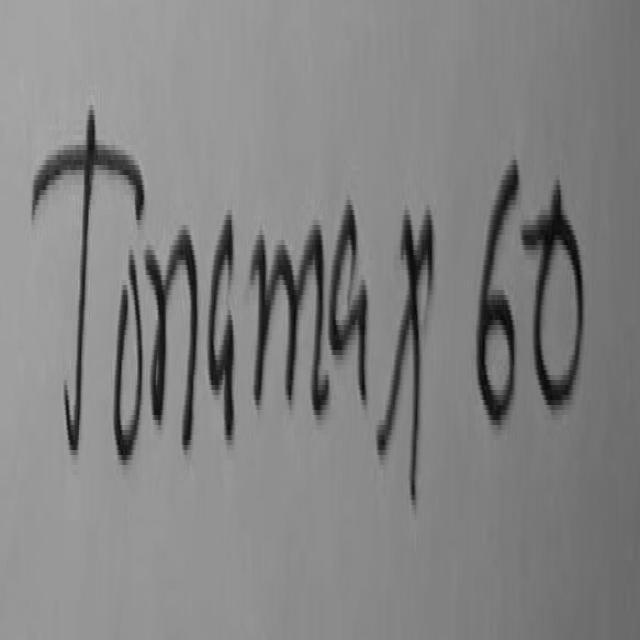0: (525, 180, 584, 402)
6: (479, 160, 518, 418)
T: (32, 105, 144, 448)
a: (329, 200, 366, 398), (209, 210, 233, 432)
m: (251, 225, 329, 408)
n: (145, 235, 198, 442)
o: (113, 250, 142, 458)
x: (378, 210, 433, 498)
